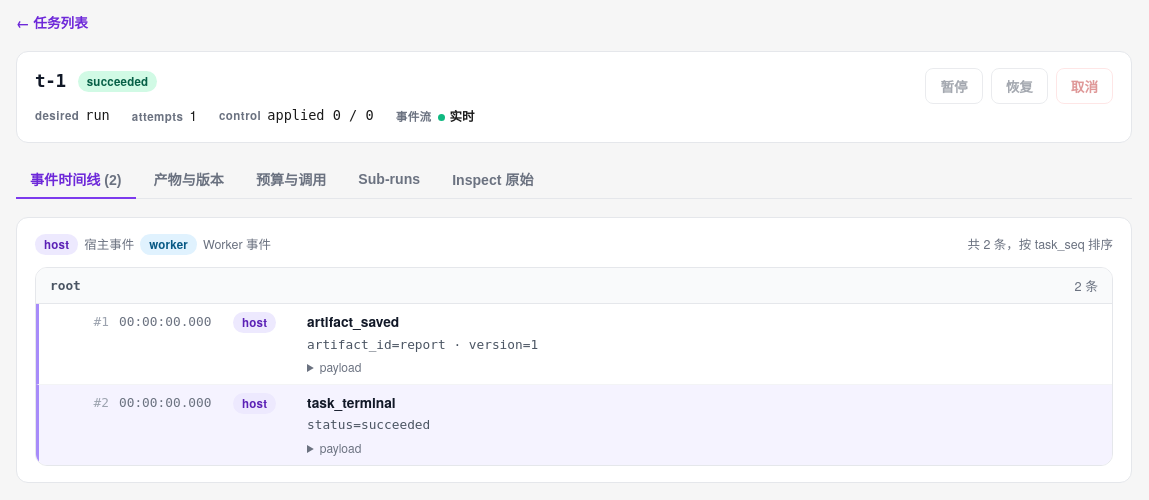
Test: TaskDetailView › loads the pinned result on task_terminal and shows the artifacts
Step 1. Click the tab "产物与版本" → (189, 180), box x1=140 y1=160 x2=238 y2=198
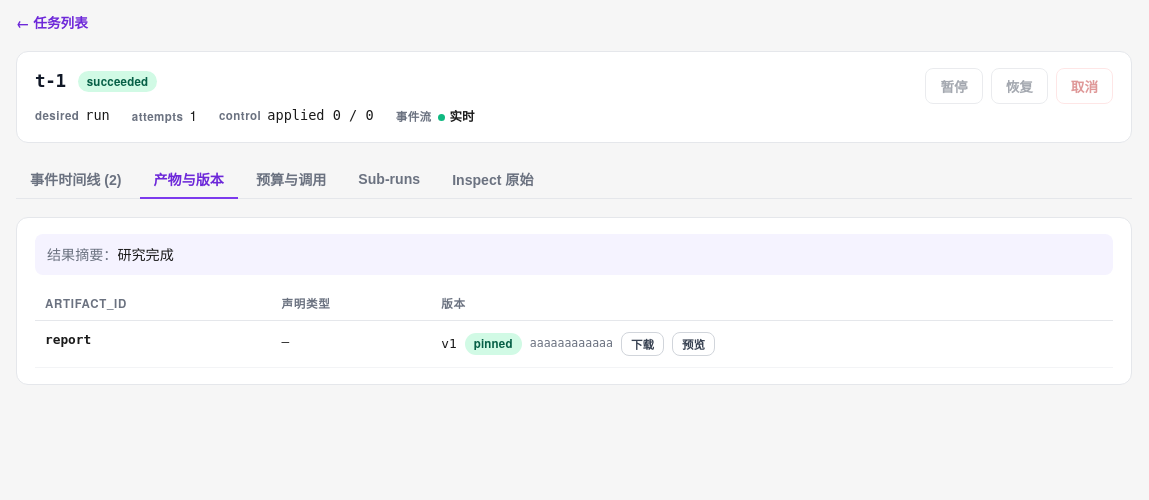
Check: the button "暂停" is disabled, box x1=925 y1=68 x2=983 y2=104
Check: the text "研究完成" is shown, box x1=117 y1=244 x2=174 y2=264
Check: the text "pinned" is shown, box x1=465 y1=333 x2=522 y2=354
